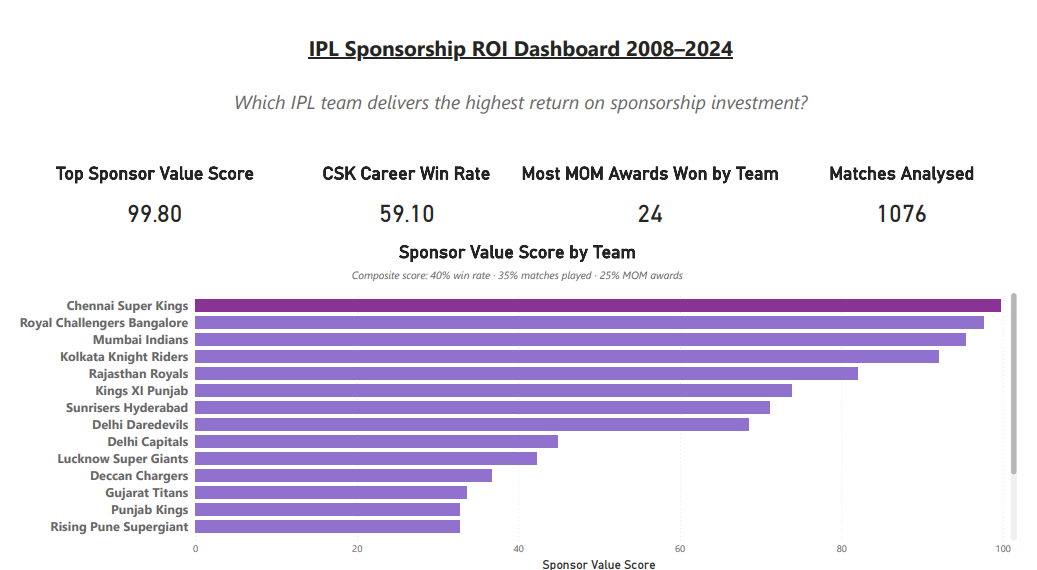

Layout of this report page (visuals, bound fields, positions):
{"tool":"powerbi","page":{"name":"executive summary","canvas":[1280,720],"ordinal":0},"visuals":[{"type":"clusteredBarChart","title":"Sponsor Value Score by Team","fields":{"Category":["query5_sponsor_value_scores.team"],"Y":["Sum(query5_sponsor_value_scores.sponsor_value_score)"]},"box":[0,286.9,1280.6,423.8],"z":0},{"type":"card","title":"Top Sponsor Value Score","fields":{"Values":["Max(query5_sponsor_value_scores.sponsor_value_score)"]},"box":[0,187.3,358.7,99.6],"z":1000},{"type":"card","title":"CSK Career Win Rate","fields":{"Values":["Max(query5_sponsor_value_scores.win_rate_pct)"]},"box":[358.7,187.3,281.6,99.6],"z":2000},{"type":"card","title":"Most MOM Awards Won by Team","fields":{"Values":["Max(query4_mom_frequency.mom_awards)"]},"box":[640.3,187.3,338.7,99.6],"z":3000},{"type":"card","title":"Matches Analysed","fields":{"Values":["Sum(query3_team_win_rates.total_matches)"]},"box":[977.7,187.3,302.9,99.6],"z":4000},{"type":"textbox","box":[9.6,0,1270.4,143.1],"z":5000}]}

Visuals, with their boxes in screenshot pixels (x1, y1, x2, y2), scaled from the page's 1280x720 canvas onto the 1037x570 screenshot:
"Sponsor Value Score by Team" clusteredBarChart: l=0, t=227, r=1036, b=563
"Top Sponsor Value Score" card: l=0, t=148, r=291, b=227
"CSK Career Win Rate" card: l=291, t=148, r=519, b=227
"Most MOM Awards Won by Team" card: l=519, t=148, r=793, b=227
"Matches Analysed" card: l=792, t=148, r=1036, b=227
textbox: l=8, t=0, r=1036, b=113
